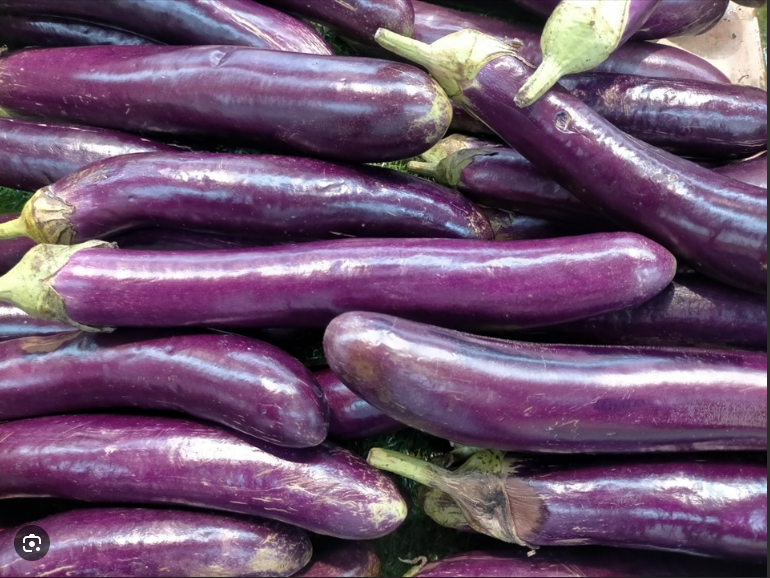catim: (380, 22, 768, 268), (319, 301, 766, 457), (14, 233, 685, 330), (3, 40, 449, 160), (10, 420, 406, 534), (375, 444, 764, 558), (1, 342, 331, 451), (3, 170, 508, 241), (3, 509, 315, 576)
